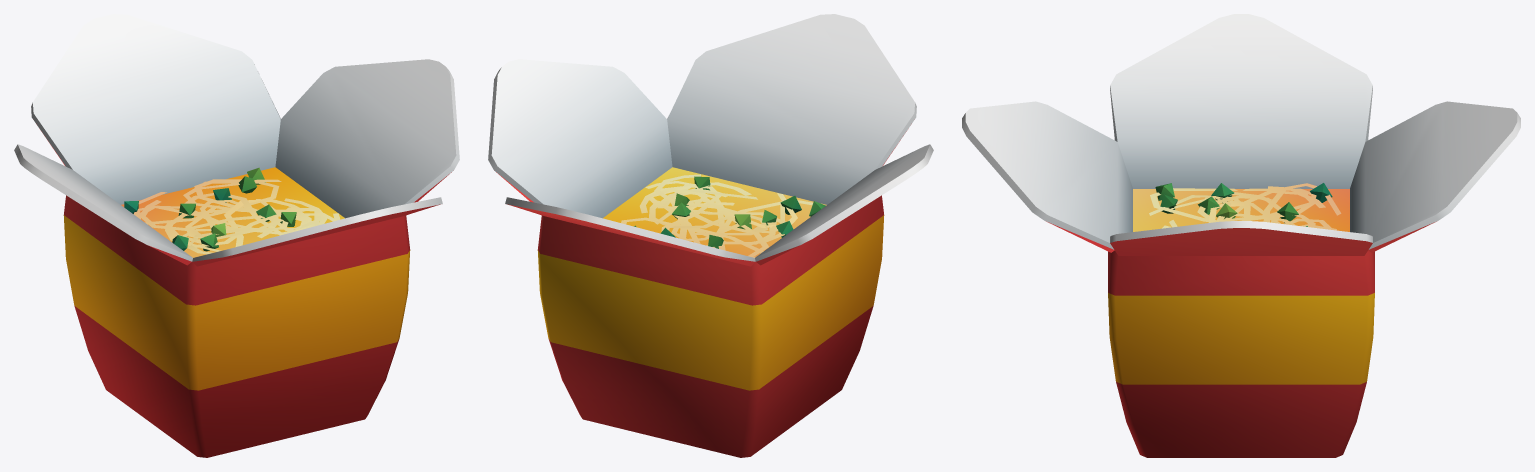
Rendered from noodles_001.fbx.
The picture shows the model from 3 angles, left to right: view 1: azimuth 30°, elevation 25°; view 2: azimuth 150°, elevation 25°; view 3: azimuth 270°, elevation 25°; orthographic projection. The views are drawn at different scales.
Visible parts, largest first — view 1: noodles_001; view 2: noodles_001; view 3: noodles_001.
Part boxes in pixels (left/top/right/bottom): noodles_001: left=14, top=14, right=459, bottom=457; noodles_001: left=488, top=14, right=933, bottom=457; noodles_001: left=962, top=14, right=1520, bottom=457.
Size of the model in its own units: 20.56 by 23.05 by 13.55.
